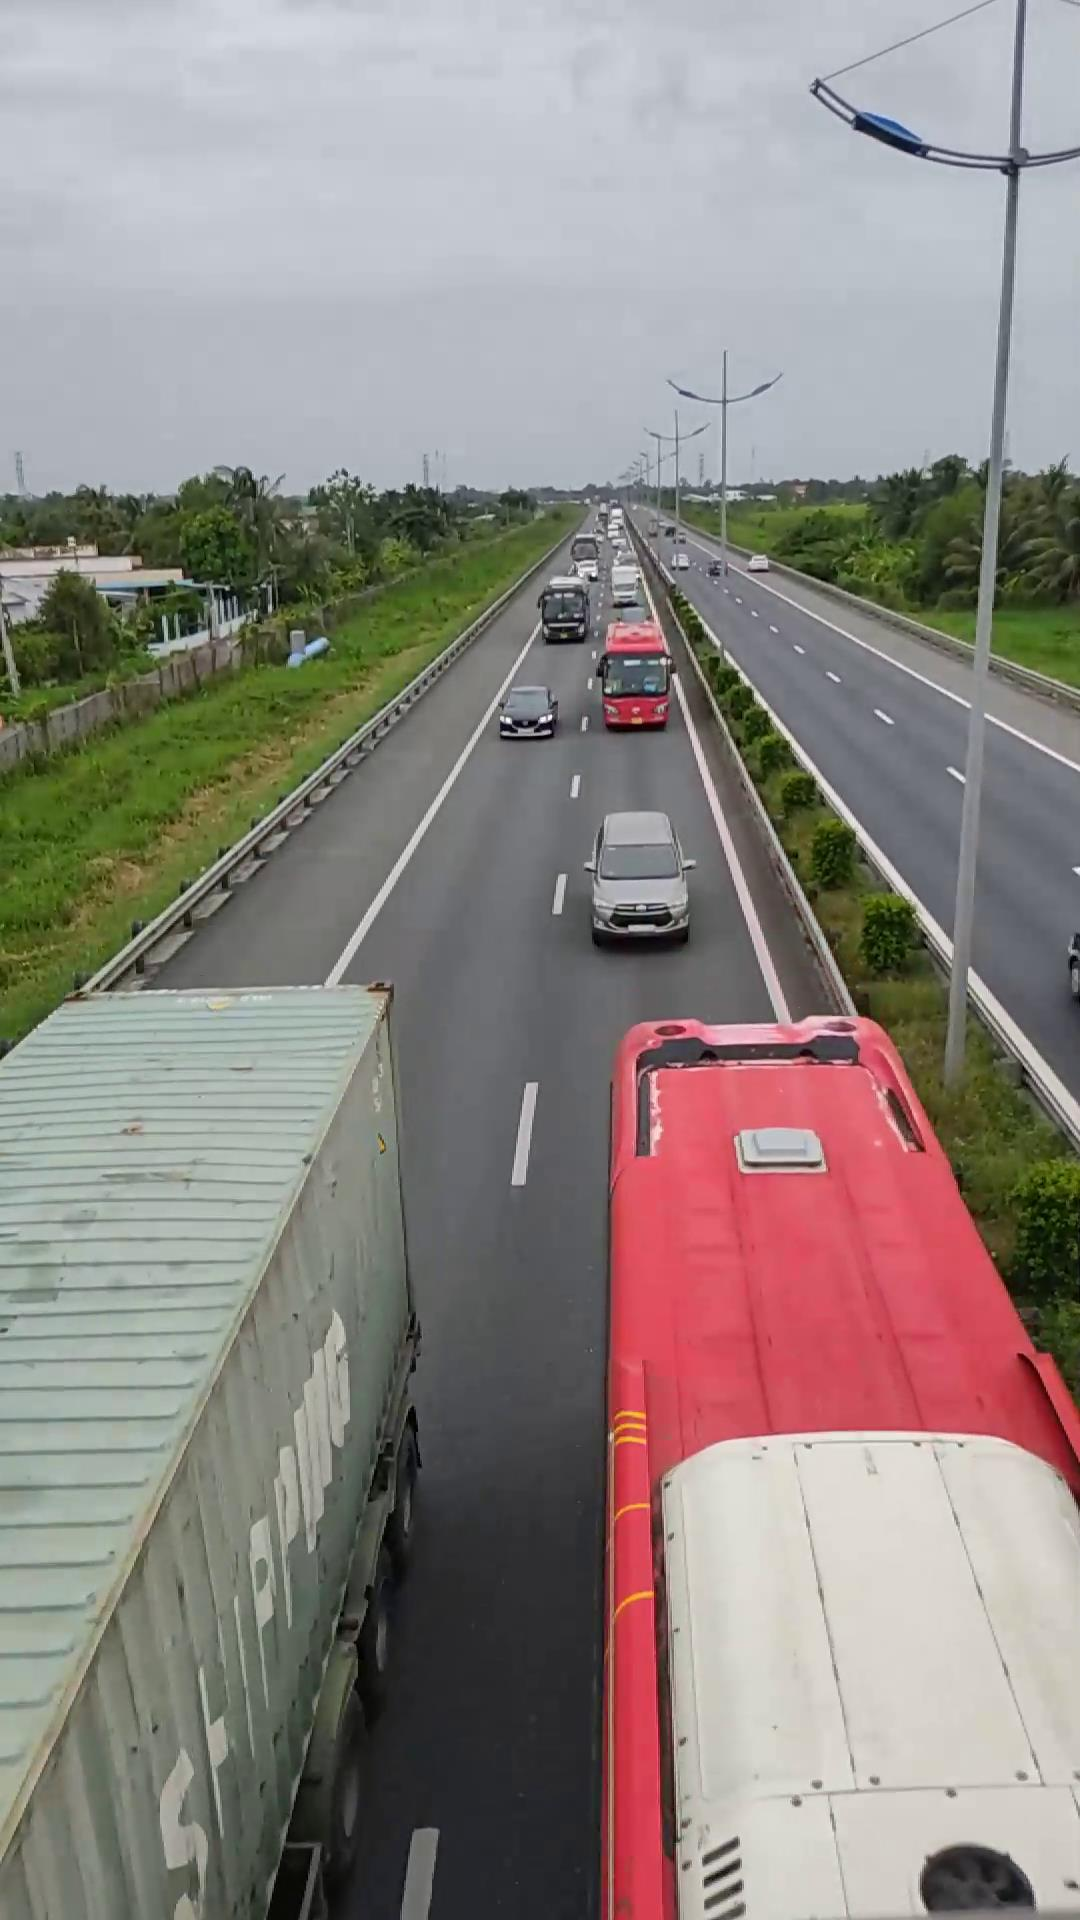bus: (603, 1011, 1077, 1910)
car: (585, 809, 694, 944)
container: (0, 976, 436, 1918)
